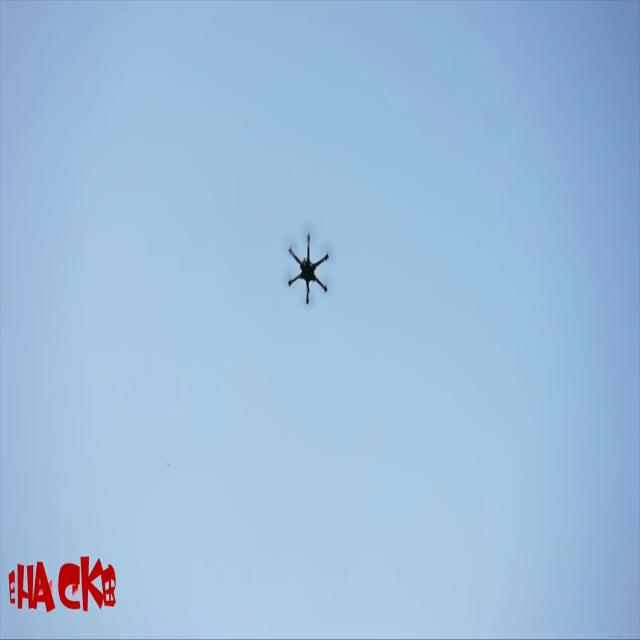drone: (281, 222, 335, 330)
